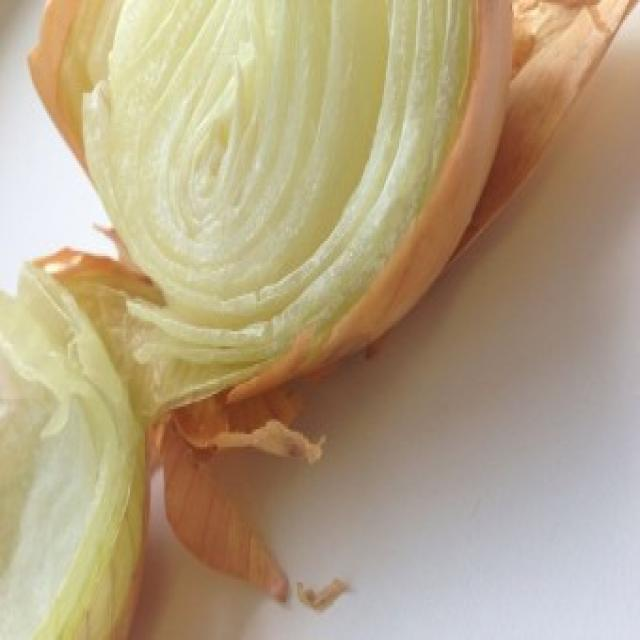onion: (55, 1, 492, 363)
